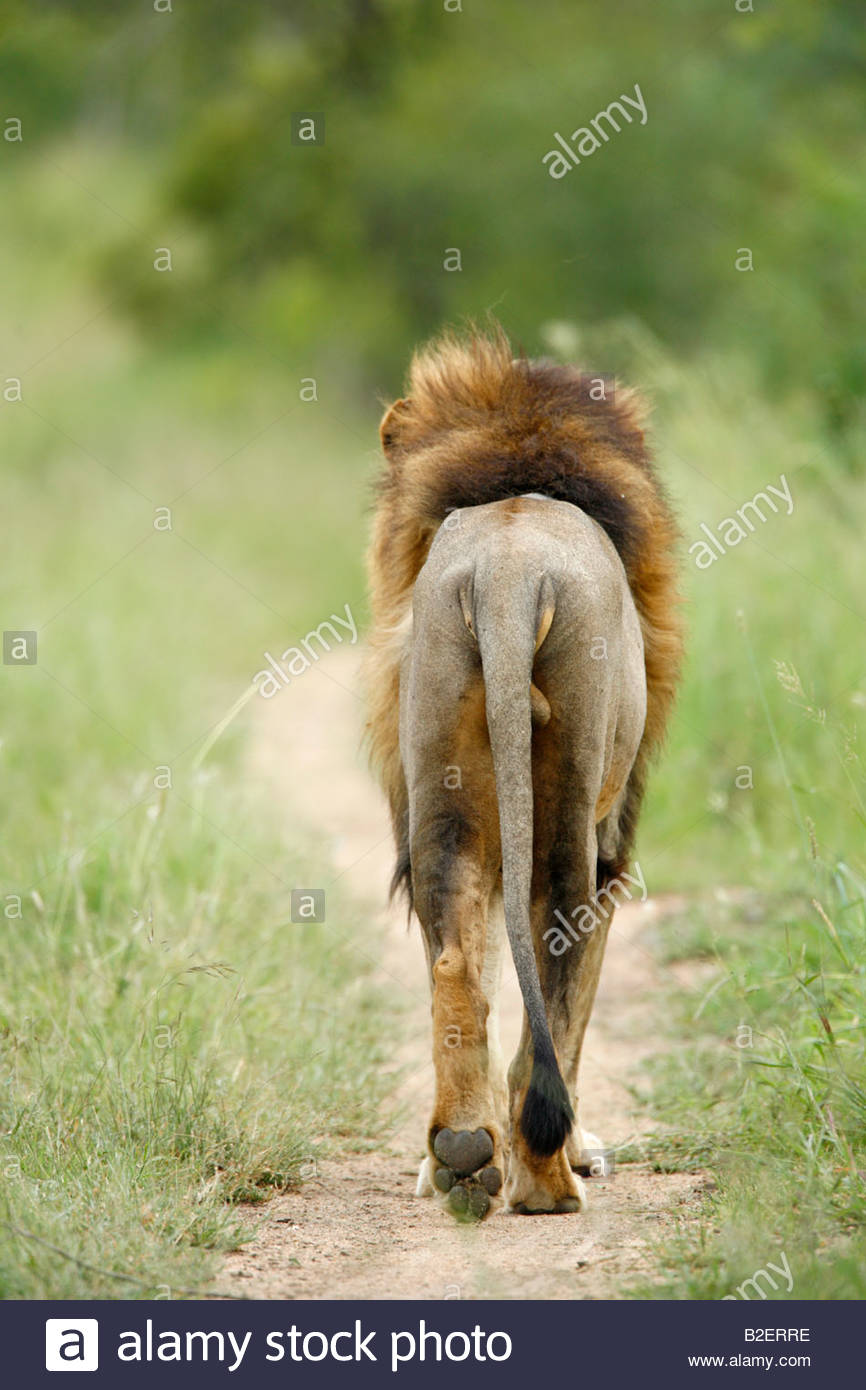lion: (361, 323, 685, 1223)
